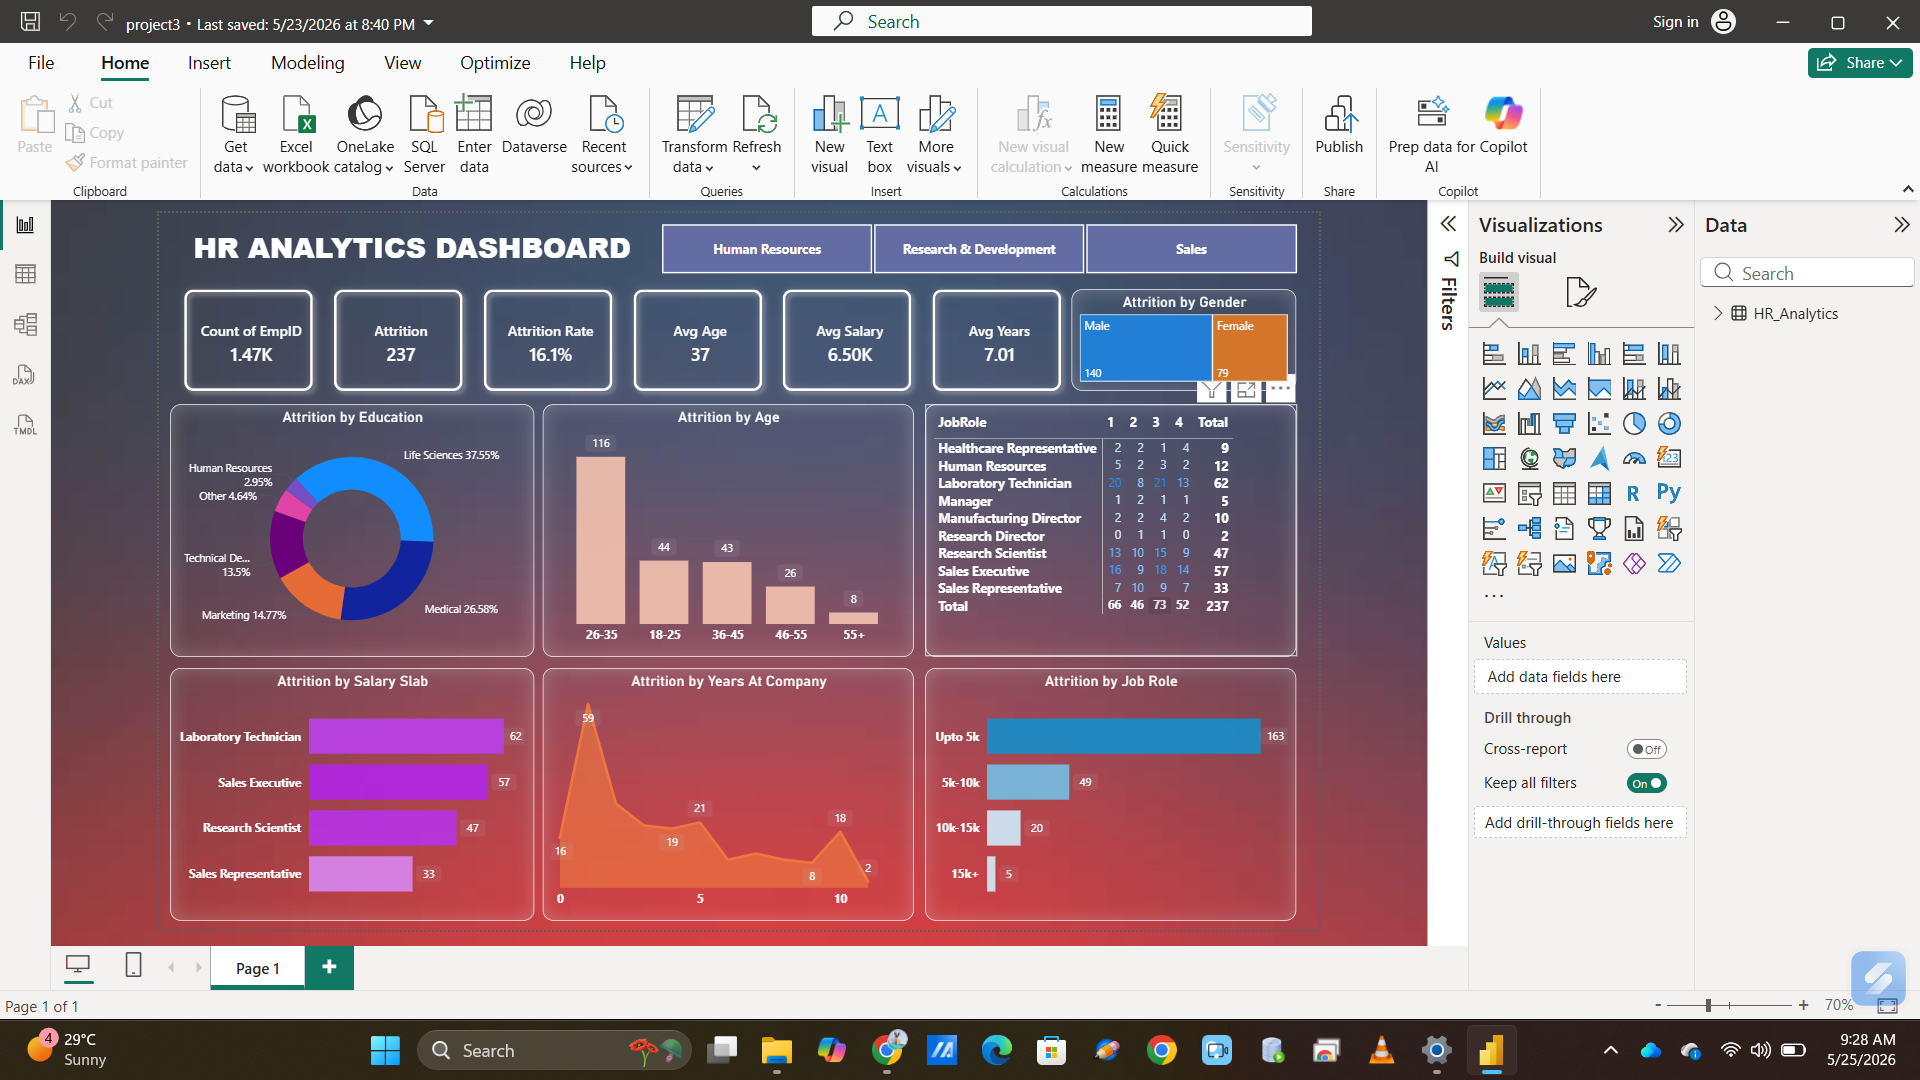

The page's visual inventory and layout, read from the dashboard file:
{"tool":"powerbi","page":{"name":"Page 1","canvas":[1325,820],"ordinal":0},"visuals":[{"type":"cardVisual","fields":{"Data":["CountNonNull(HR_Analytics.EmpID)","Sum(HR_Analytics.AttritionCount)","HR_Analytics.AttritionRate","Avg(HR_Analytics.Age)","Avg(HR_Analytics.MonthlyIncome)","Avg(HR_Analytics.YearsAtCompany)"]},"box":[0,58.6,1065.7,174.3],"z":0},{"type":"donutChart","title":"Attrition by Education","fields":{"Category":["HR_Analytics.EducationField"],"Y":["Sum(HR_Analytics.AttritionCount)"]},"box":[12.9,218.6,415.7,288.6],"z":1000},{"type":"columnChart","title":"Attrition by Age","fields":{"Category":["HR_Analytics.AgeGroup"],"Y":["Sum(HR_Analytics.AttritionCount)"]},"box":[438.6,218.6,424.3,288.6],"z":2000},{"type":"pivotTable","title":"Attrition by Education","fields":{"Rows":["HR_Analytics.JobRole"],"Columns":["HR_Analytics.JobSatisfaction"],"Values":["Sum(HR_Analytics.AttritionCount)"]},"box":[875.7,218.6,424.3,288.6],"z":3000},{"type":"barChart","title":"Attrition by Job Role","fields":{"Category":["HR_Analytics.SalarySlab"],"Y":["Sum(HR_Analytics.AttritionCount)"]},"box":[875.7,520,424.3,288.6],"z":4000},{"type":"barChart","title":"Attrition by Salary Slab","fields":{"Y":["Sum(HR_Analytics.AttritionCount)"],"Category":["HR_Analytics.JobRole"]},"box":[12.9,520,415.7,288.6],"z":5000},{"type":"areaChart","title":"Attrition by Years At Company","fields":{"Category":["HR_Analytics.YearsAtCompany"],"Y":["Sum(HR_Analytics.AttritionCount)"]},"box":[438.6,520,424.3,288.6],"z":6000},{"type":"treemap","title":"Attrition by Gender","fields":{"Group":["HR_Analytics.Gender"],"Values":["Sum(HR_Analytics.AttritionCount)"]},"box":[1042.9,87.1,257.1,115.7],"z":7000},{"type":"slicer","fields":{"Values":["HR_Analytics.Department"]},"box":[548.6,5.7,775.7,70],"z":8000},{"type":"textbox","box":[30,11.4,518.6,58.6],"z":9000}]}

Visuals, with their boxes on the page's 1325x820 design canvas (x1, y1, x2, y2). These are canvas units, not pixel positions in the 1920x1080 screenshot, which may show the page scaled, cropped or inside an application window:
cardVisual - CountNonNull(HR_Analytics.EmpID) x Sum(HR_Analytics.AttritionCount): BBox(0, 59, 1066, 233)
"Attrition by Education" donutChart: BBox(13, 219, 429, 507)
"Attrition by Age" columnChart: BBox(439, 219, 863, 507)
"Attrition by Education" pivotTable: BBox(876, 219, 1300, 507)
"Attrition by Job Role" barChart: BBox(876, 520, 1300, 809)
"Attrition by Salary Slab" barChart: BBox(13, 520, 429, 809)
"Attrition by Years At Company" areaChart: BBox(439, 520, 863, 809)
"Attrition by Gender" treemap: BBox(1043, 87, 1300, 203)
slicer - HR_Analytics.Department: BBox(549, 6, 1324, 76)
textbox: BBox(30, 11, 549, 70)
